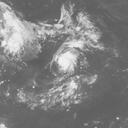cyclone: (54, 46, 84, 75)
